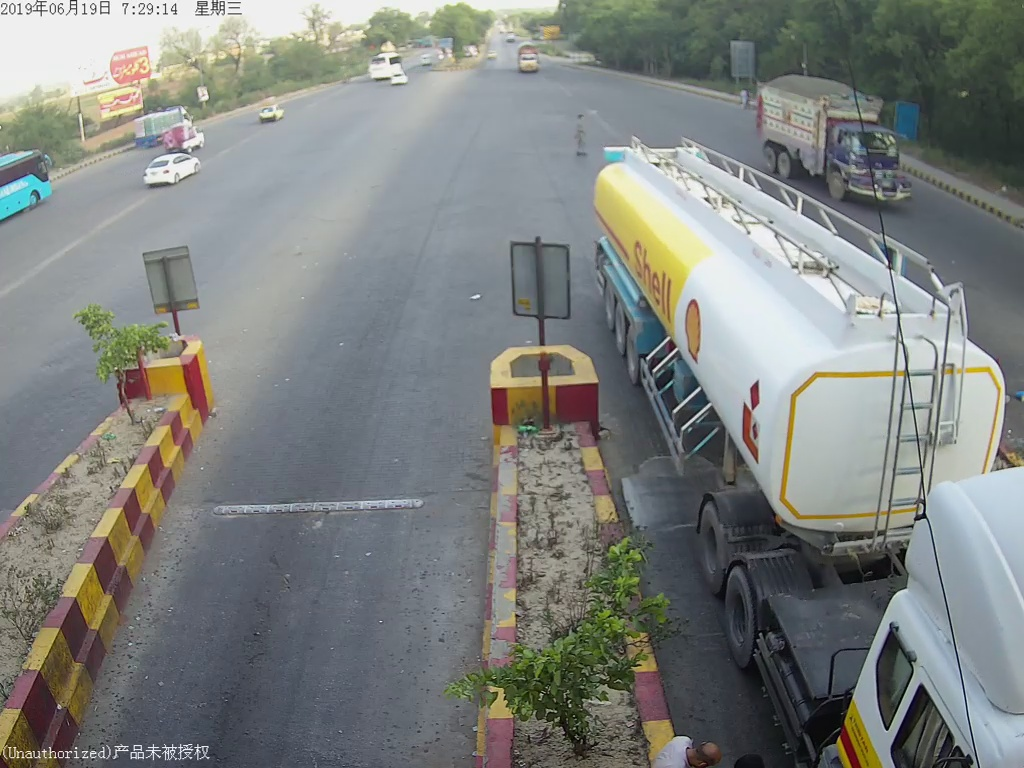Cat-4: (510, 43, 545, 83)
